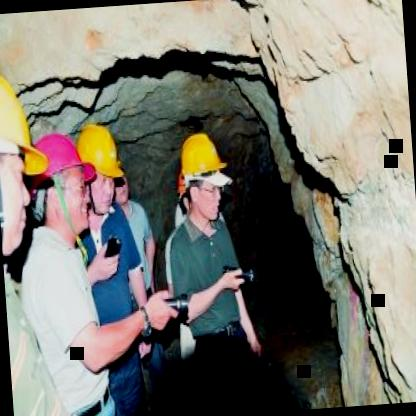helmet: (0, 54, 43, 268), (29, 132, 96, 226), (175, 126, 233, 226), (78, 117, 126, 214)
